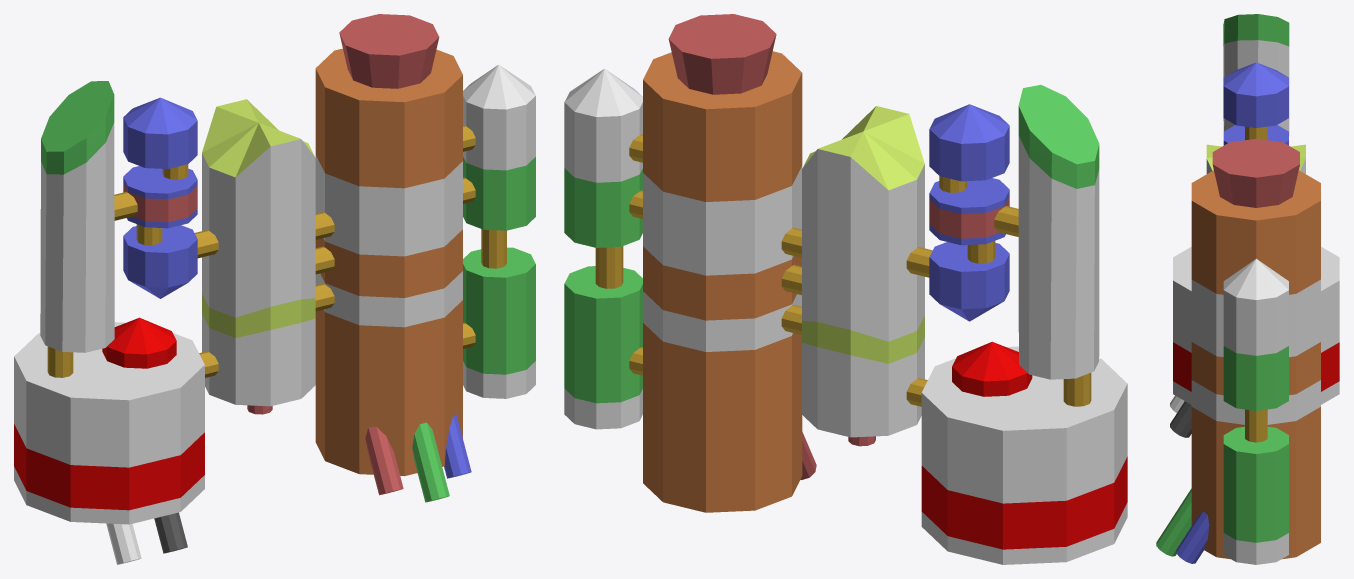
Rendered from CrazyBarMachine.fbx.
The picture shows the model from 3 angles, left to right: view 1: azimuth 30°, elevation 25°; view 2: azimuth 150°, elevation 25°; view 3: azimuth 270°, elevation 25°; orthographic projection. The views are drawn at different scales.
Visible parts, largest first — view 1: pCylinder2, pCylinder3, pCylinder4, pCylinder5, pCylinder6, pCylinder7, pCylinder46, pCylinder8, pCylinder10, pCylinder9, pCylinder47, pCylinder24 (+6 smaller); view 2: pCylinder2, pCylinder3, pCylinder4, pCylinder5, pCylinder6, pCylinder7, pCylinder46, pCylinder8, pCylinder10, pCylinder9, pCylinder47, pCylinder21 (+1 smaller); view 3: pCylinder2, pCylinder6, pCylinder7, pCylinder4, pCylinder46, pCylinder5, pCylinder8, pCylinder24, pCylinder25, pCylinder21, pCylinder9, pCylinder28 (+2 smaller).
Boxes of the visible parts, x1,y1,x2,y2 form: pCylinder2: [315, 48, 462, 476]; pCylinder3: [202, 99, 315, 406]; pCylinder4: [14, 322, 204, 524]; pCylinder5: [40, 81, 114, 352]; pCylinder6: [463, 64, 535, 230]; pCylinder7: [463, 247, 535, 398]; pCylinder46: [339, 14, 439, 88]; pCylinder8: [123, 97, 197, 168]; pCylinder10: [123, 225, 197, 298]; pCylinder9: [123, 166, 197, 228]; pCylinder47: [102, 317, 176, 368]; pCylinder24: [412, 422, 449, 502]; pCylinder2: [643, 51, 802, 512]; pCylinder3: [802, 106, 924, 437]; pCylinder4: [921, 346, 1127, 564]; pCylinder5: [1018, 85, 1099, 379]; pCylinder6: [564, 68, 642, 247]; pCylinder7: [564, 266, 642, 429]; pCylinder46: [668, 14, 776, 94]; pCylinder8: [929, 104, 1009, 181]; pCylinder10: [929, 242, 1009, 321]; pCylinder9: [929, 178, 1009, 245]; pCylinder47: [952, 341, 1032, 396]; pCylinder21: [595, 246, 623, 288]; pCylinder2: [1191, 170, 1320, 559]; pCylinder6: [1223, 258, 1288, 410]; pCylinder7: [1223, 426, 1288, 564]; pCylinder4: [1173, 246, 1339, 404]; pCylinder46: [1212, 138, 1299, 207]; pCylinder5: [1223, 14, 1289, 135]; pCylinder8: [1223, 62, 1288, 127]; pCylinder24: [1156, 488, 1191, 556]; pCylinder25: [1176, 511, 1209, 563]; pCylinder21: [1245, 409, 1267, 442]; pCylinder9: [1223, 125, 1288, 145]; pCylinder28: [1170, 401, 1191, 437].
Size of the model in its own units: 1.59 by 1.37 by 0.5472.
